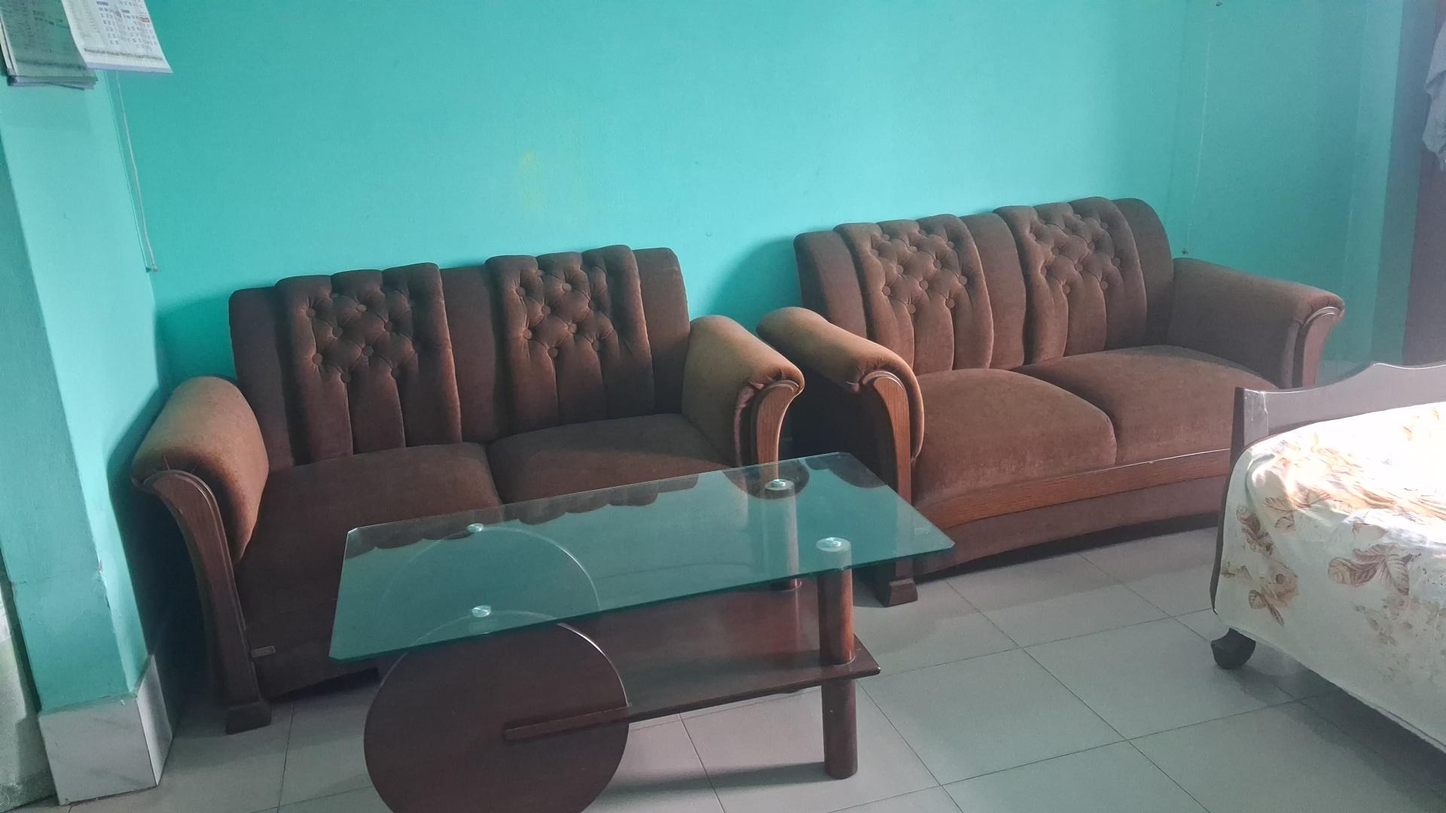Table: (323, 449, 954, 774)
